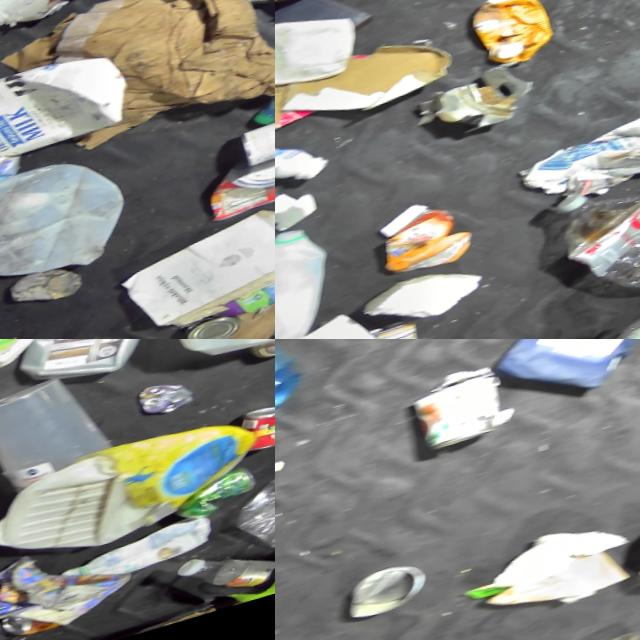can: (406, 360, 527, 460), (347, 560, 440, 627), (209, 144, 275, 229), (141, 381, 202, 427), (242, 103, 275, 174), (183, 309, 257, 339), (239, 401, 275, 461)
milk_jug: (275, 220, 355, 339)
non_white_jug: (0, 417, 266, 579), (2, 339, 182, 395)
plastic_bottle: (0, 146, 146, 300), (554, 164, 640, 320)
